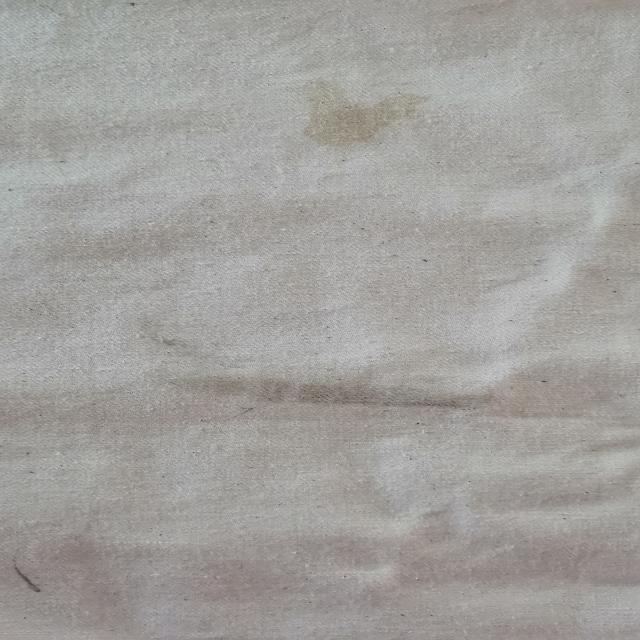taaaches: (133, 364, 530, 426), (280, 70, 424, 152), (130, 315, 249, 352), (7, 557, 55, 603)
